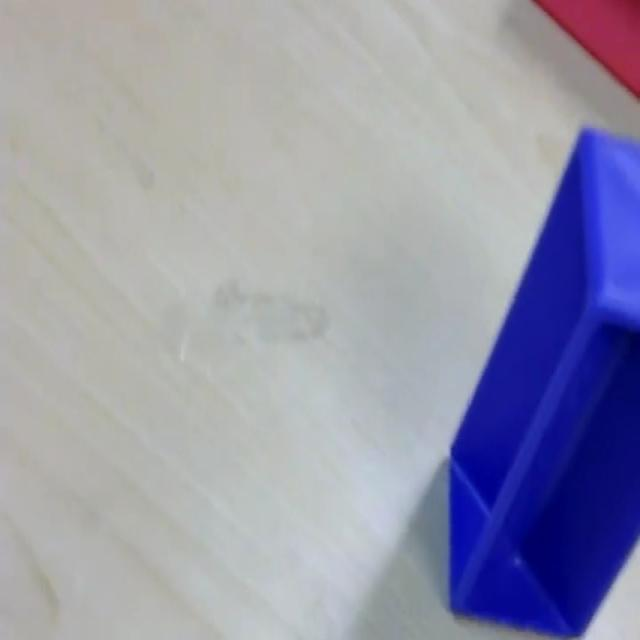blue_block: (446, 123, 638, 636)
